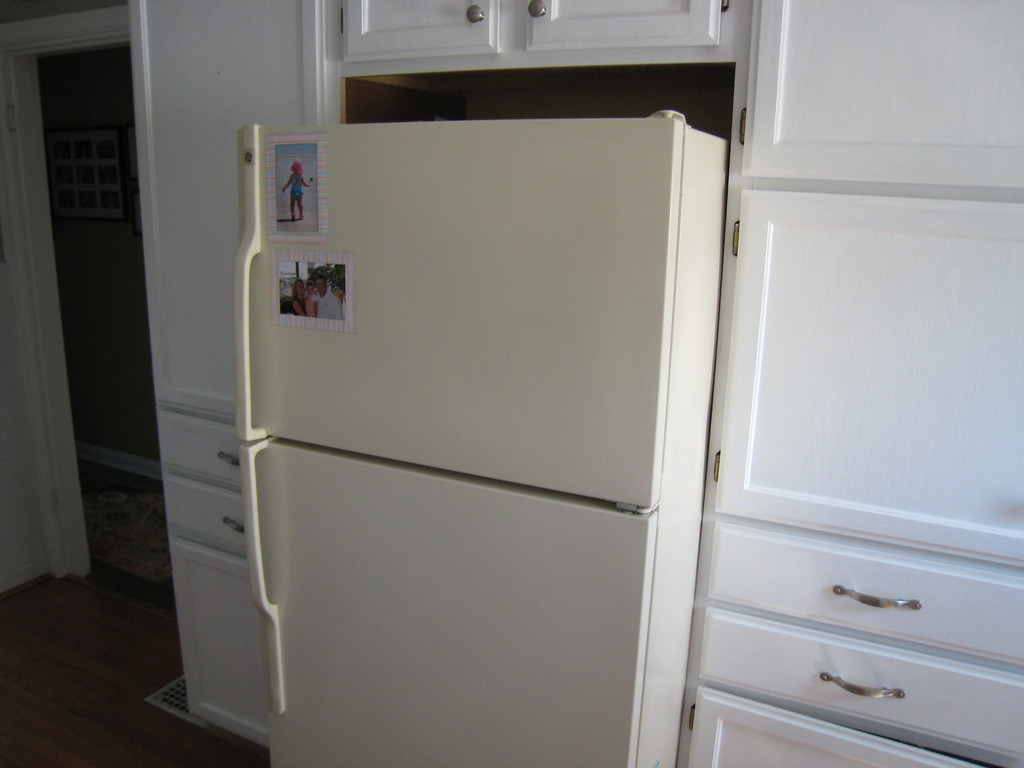cabinet door: (738, 202, 1024, 535), (749, 19, 1024, 189), (718, 534, 1024, 653), (718, 618, 1023, 737), (702, 705, 925, 768), (502, 2, 714, 50), (350, 11, 494, 55), (169, 486, 249, 549), (161, 416, 235, 478)
handle: (226, 438, 279, 617), (226, 245, 269, 439), (817, 665, 914, 711), (831, 575, 925, 614), (214, 502, 244, 542), (456, 4, 487, 27), (210, 446, 239, 468), (520, 2, 551, 16)
refrigerator door: (251, 125, 670, 490), (255, 444, 644, 768)
